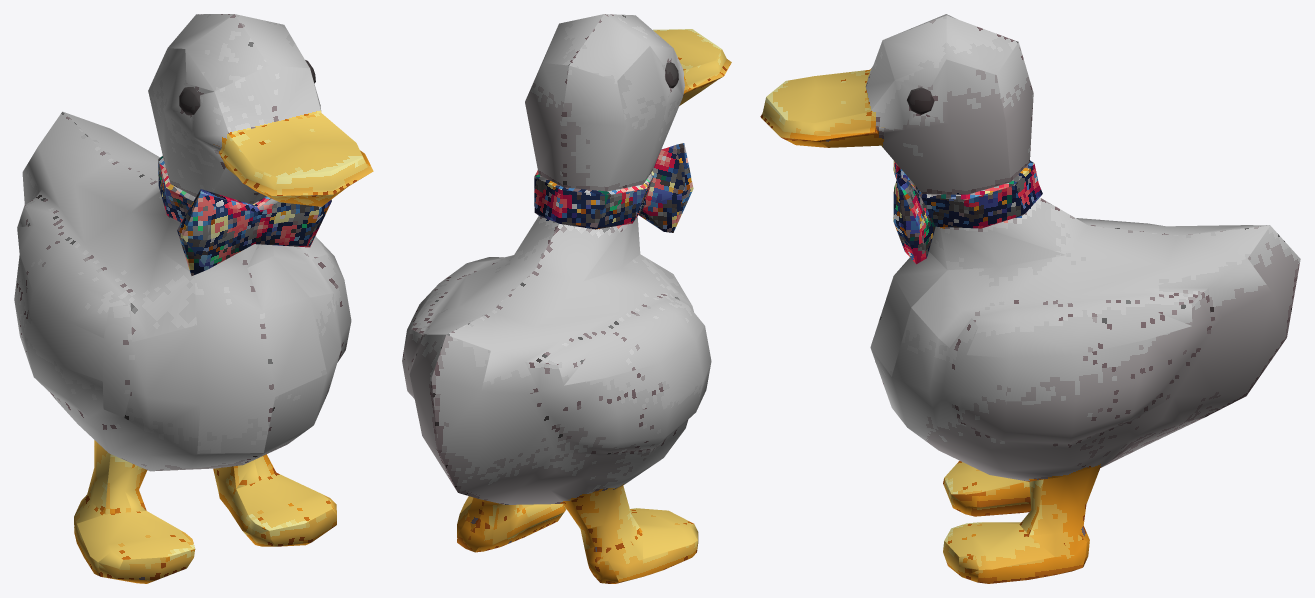
Rendered from wear_duck.glb.
The picture shows the model from 3 angles, left to right: view 1: azimuth 30°, elevation 25°; view 2: azimuth 150°, elevation 25°; view 3: azimuth 270°, elevation 25°; orthographic projection. The views are drawn at different scales.
Visible parts, largest first — view 1: mesh; view 2: mesh; view 3: mesh.
Part boxes in pixels (x1,y1,x2,y2): mesh: (14, 14, 373, 583); mesh: (402, 14, 731, 583); mesh: (760, 14, 1300, 583).
Bounding box in the file's own units: 0.1049 × 0.2 × 0.1855.
1 material, 1 textured.
